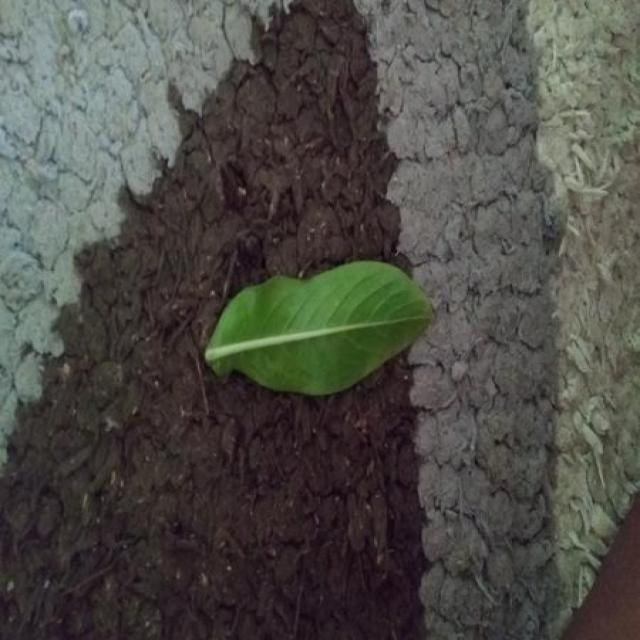catharanthus: (205, 261, 432, 394)
